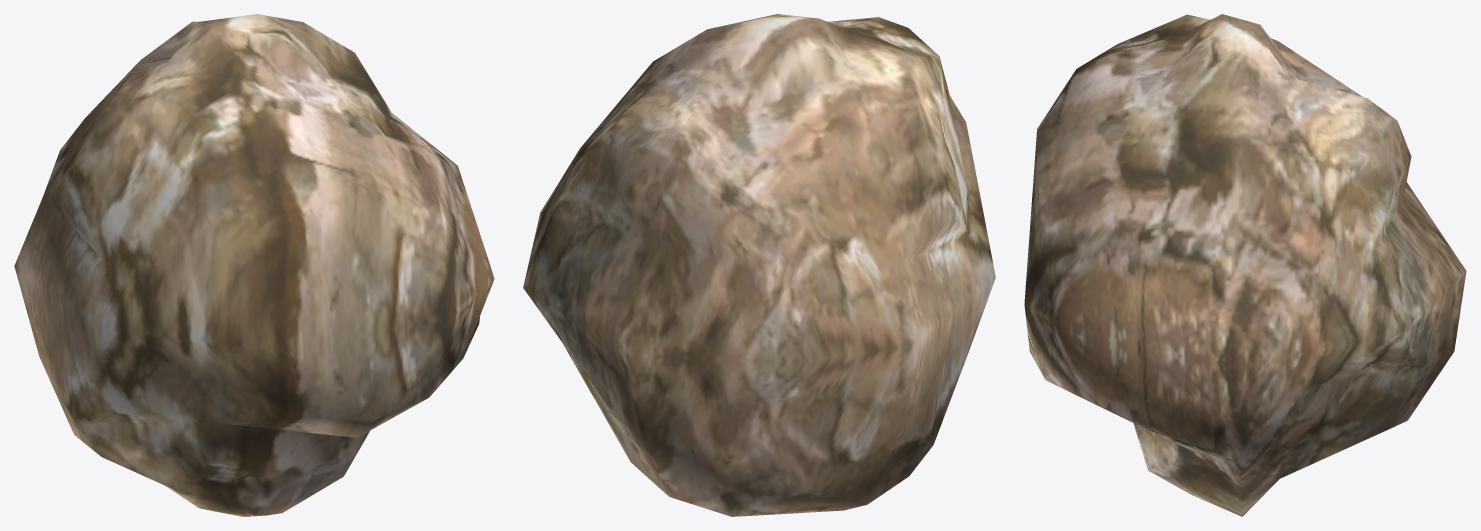
Rendered from thm_tato_cave_rock_med_l0.fbx.
The picture shows the model from 3 angles, left to right: view 1: azimuth 30°, elevation 25°; view 2: azimuth 150°, elevation 25°; view 3: azimuth 270°, elevation 25°; orthographic projection. The views are drawn at different scales.
Visible parts, largest first — view 1: mesh_node; view 2: mesh_node; view 3: mesh_node.
Boxes of the visible parts, <box> form: mesh_node: <box>14,14,494,516</box>; mesh_node: <box>523,14,995,516</box>; mesh_node: <box>1024,14,1466,516</box>.
Bounding box in the file's own units: 0.9928 × 1.14 × 0.9889.
1 material, 1 textured.
